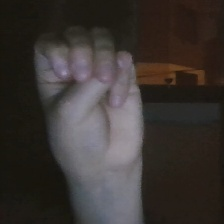M: (26, 16, 157, 181)
